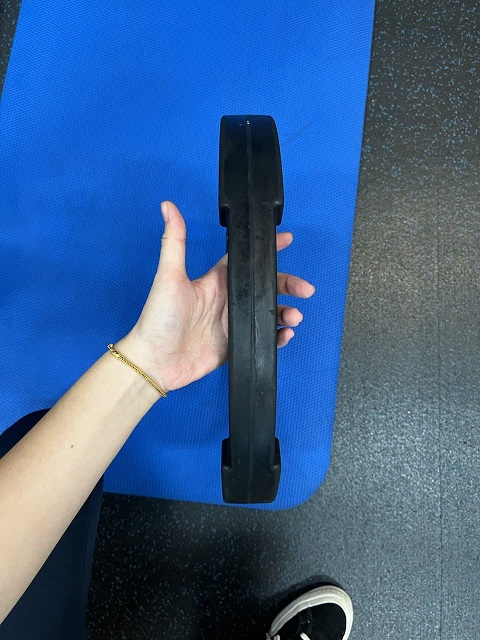weights: (217, 114, 286, 505)
